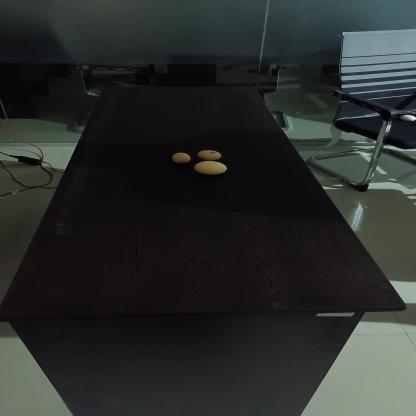egg: (192, 160, 228, 174), (196, 149, 224, 162), (171, 152, 192, 164)
